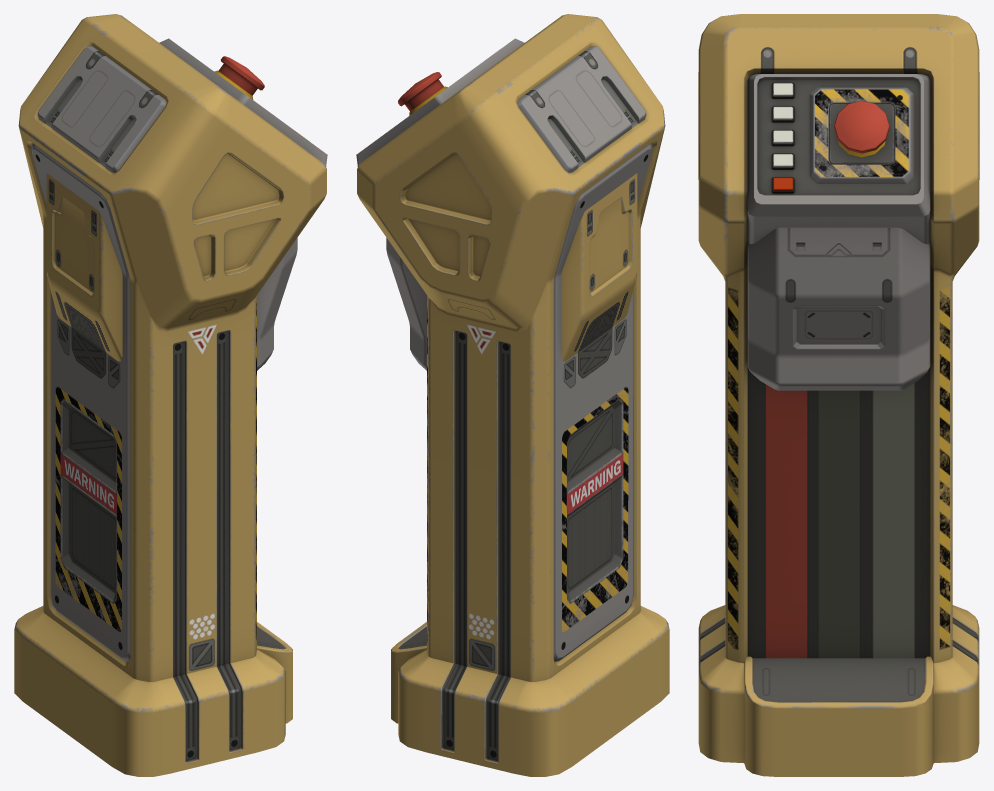
Rendered from sci_fi_remote_conrol_00.glb.
3 views of the same model, side by side, from view 1: azimuth 30°, elevation 25°; view 2: azimuth 150°, elevation 25°; view 3: azimuth 270°, elevation 25° (orthographic). The views are drawn at different scales.
Visible parts, largest first — view 1: SciFi_RemoteConrol_00; view 2: SciFi_RemoteConrol_00; view 3: SciFi_RemoteConrol_00.
Part boxes in pixels (left/top/right/bottom): SciFi_RemoteConrol_00: left=14, top=14, right=327, bottom=776; SciFi_RemoteConrol_00: left=356, top=14, right=669, bottom=776; SciFi_RemoteConrol_00: left=698, top=14, right=979, bottom=776.
Bounding box in the file's own units: 42.44 × 119 × 43.02.
Materials: 2 (2 with a texture image).
